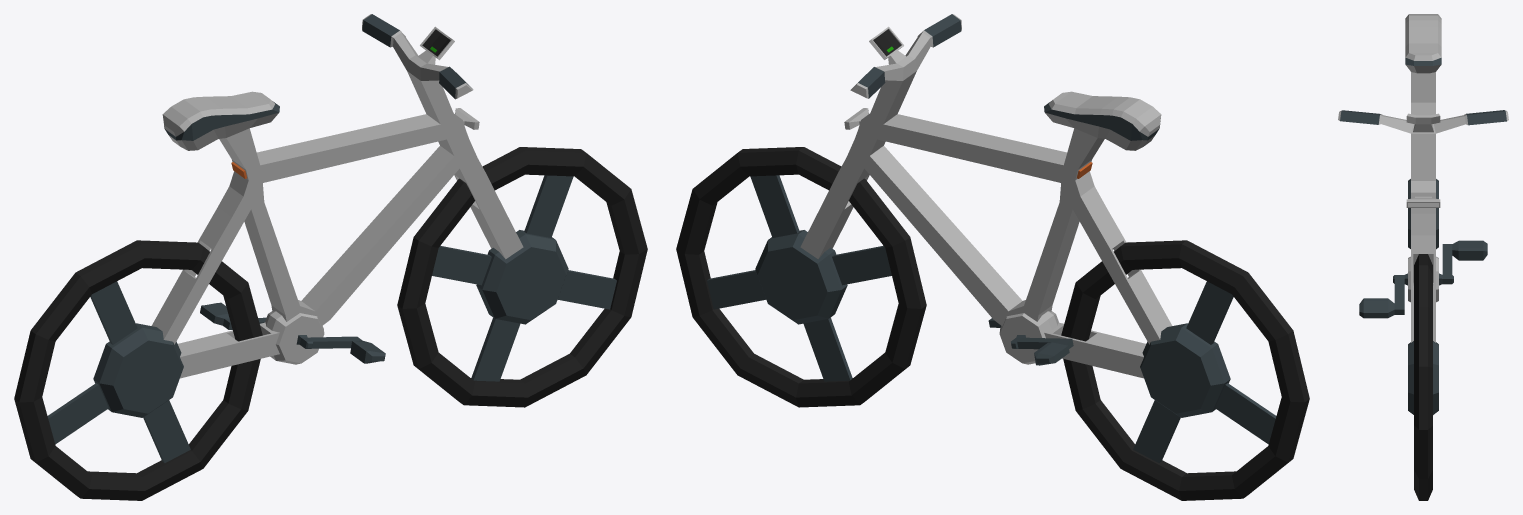
The model's file is BikeV1Light.fbx.
3 renders of one model, left to right at view 1: azimuth 30°, elevation 25°; view 2: azimuth 150°, elevation 25°; view 3: azimuth 270°, elevation 25°, orthographic. The views are drawn at different scales.
Visible parts, largest first — view 1: BikeV1Light; view 2: BikeV1Light; view 3: BikeV1Light.
Part boxes in pixels (left/top/right/bottom): BikeV1Light: left=14, top=14, right=647, bottom=500; BikeV1Light: left=676, top=14, right=1309, bottom=500; BikeV1Light: left=1338, top=14, right=1508, bottom=500.
Bounding box in the file's own units: 158 × 94.06 × 42.52.
